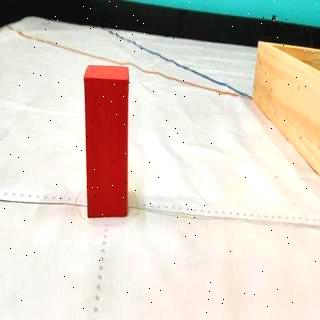redbox: (84, 64, 130, 218)
